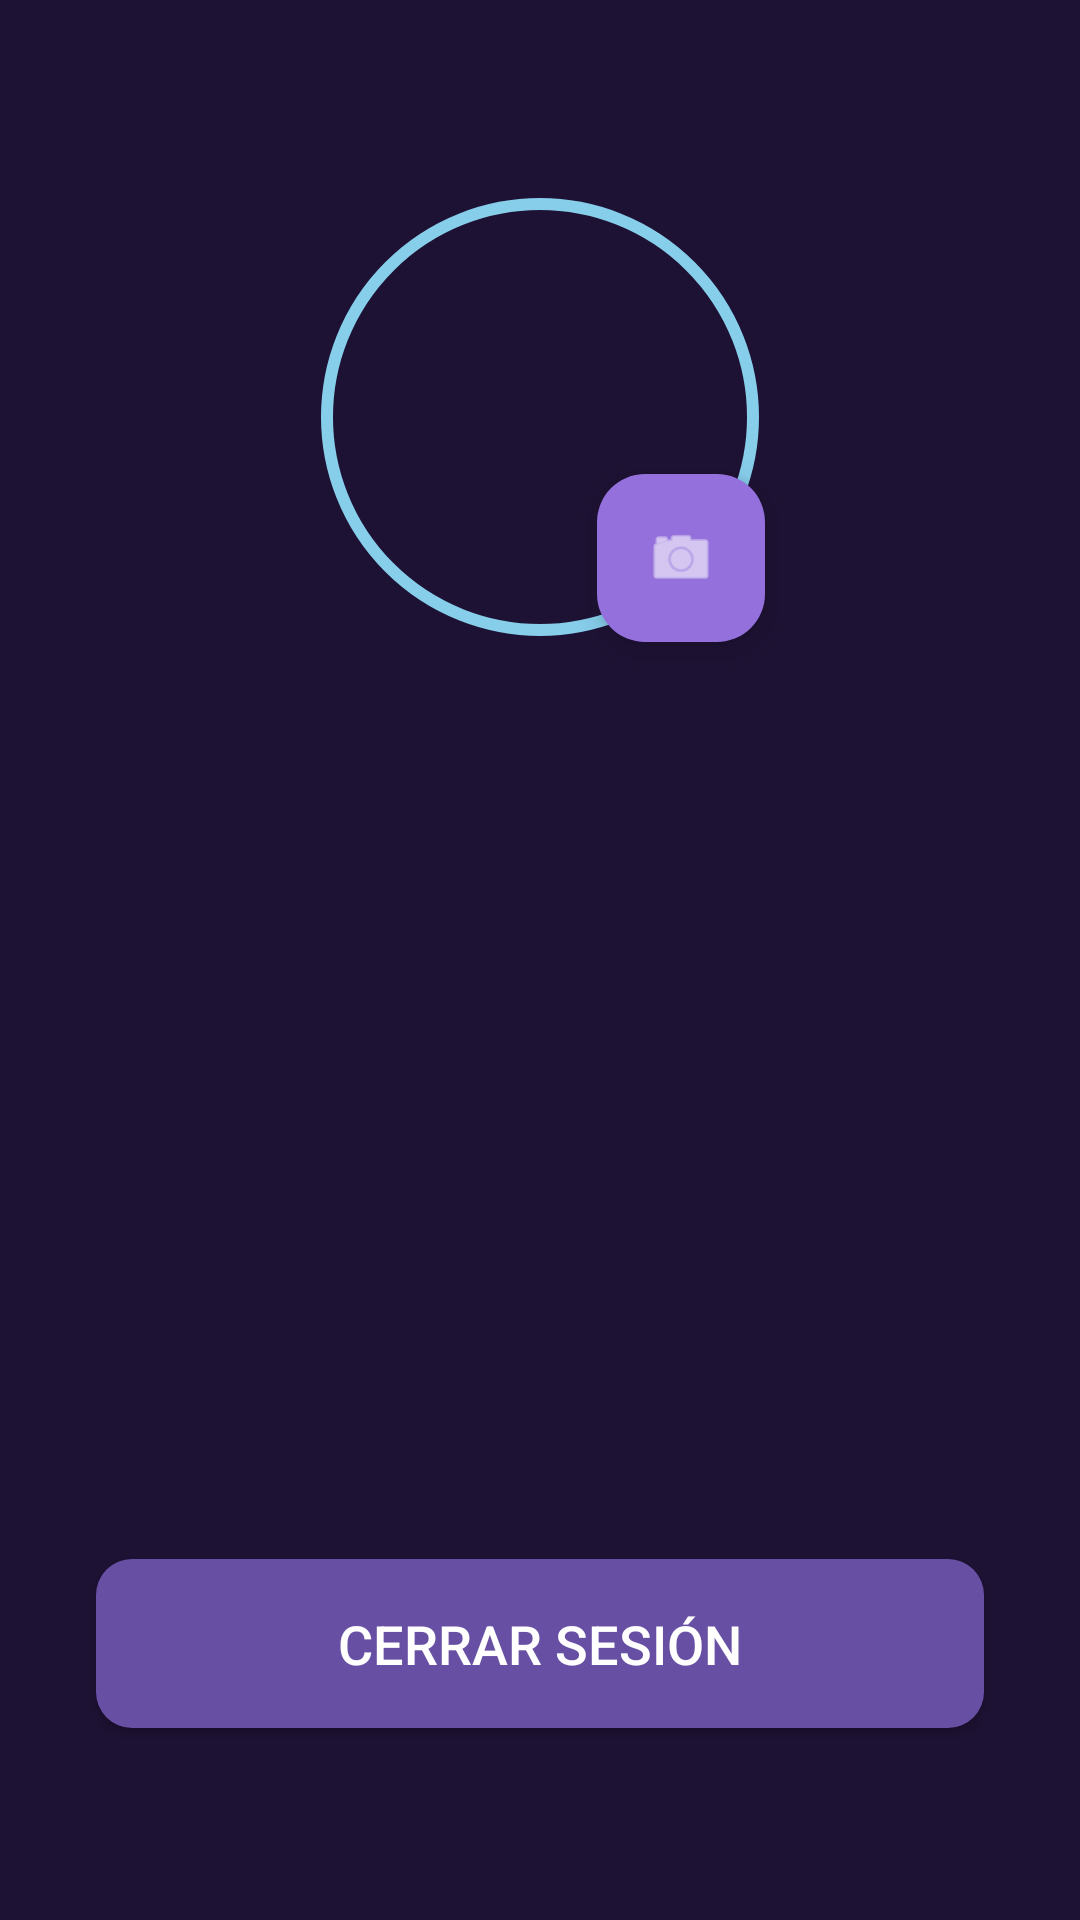

Named icons in this screenshot (1080*1920) and their bounding boxes, (x1, y1, x2, y2):
camera: (597, 474, 765, 642)
